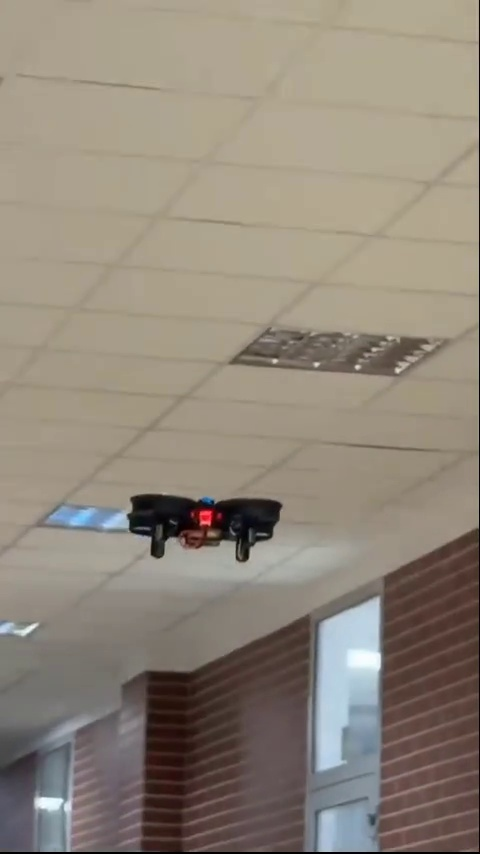drone: (126, 493, 283, 565)
